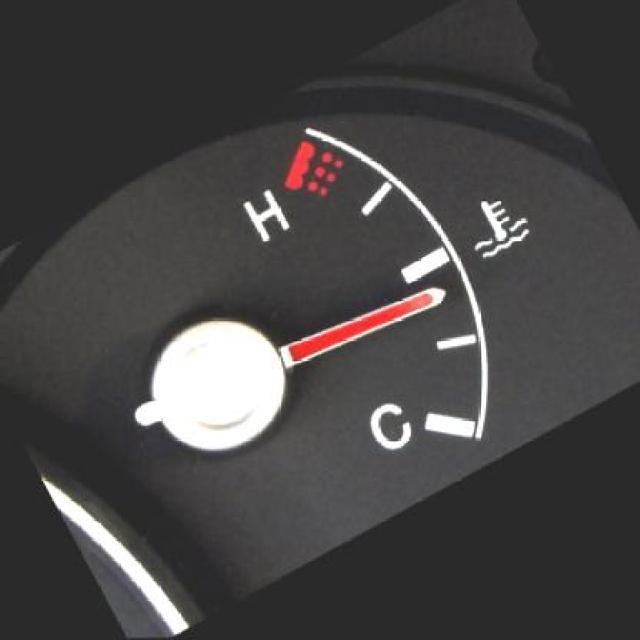Engine cooling system: (454, 184, 536, 264)
